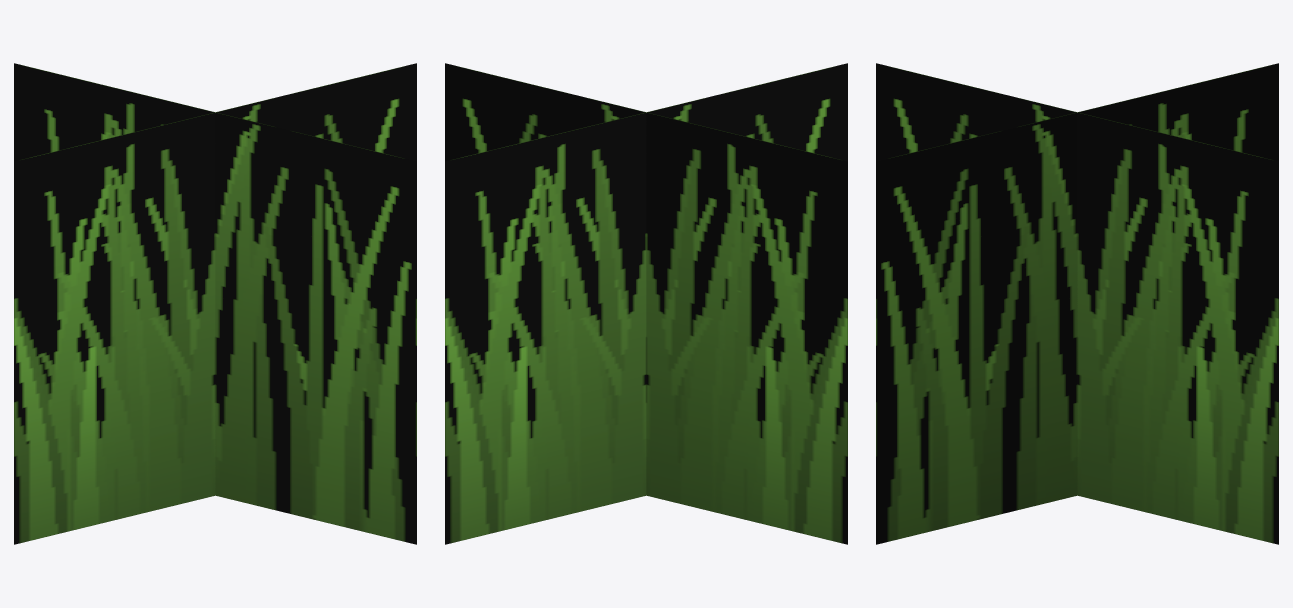
Rendered from grama.glb.
3 renders of one model, left to right at view 1: azimuth 30°, elevation 25°; view 2: azimuth 150°, elevation 25°; view 3: azimuth 270°, elevation 25°, orthographic.
Visible parts, largest first — view 1: grama; view 2: grama; view 3: grama.
Boxes of the visible parts, box(x1,y1,x2,y2) form: grama: box(14, 63, 416, 544); grama: box(445, 63, 847, 544); grama: box(876, 63, 1278, 544).
Size of the model in its own units: 0.55 by 0.5 by 0.4763.
Materials: 1 (1 with a texture image).
